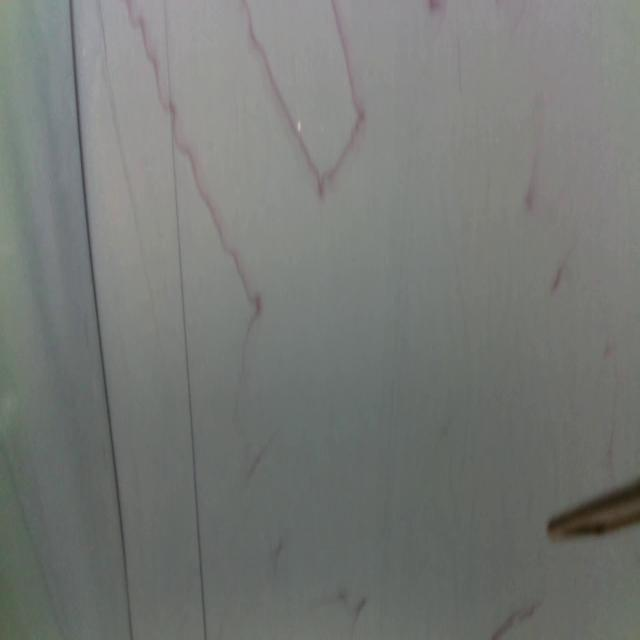crease: (70, 0, 132, 640), (164, 0, 207, 640)
